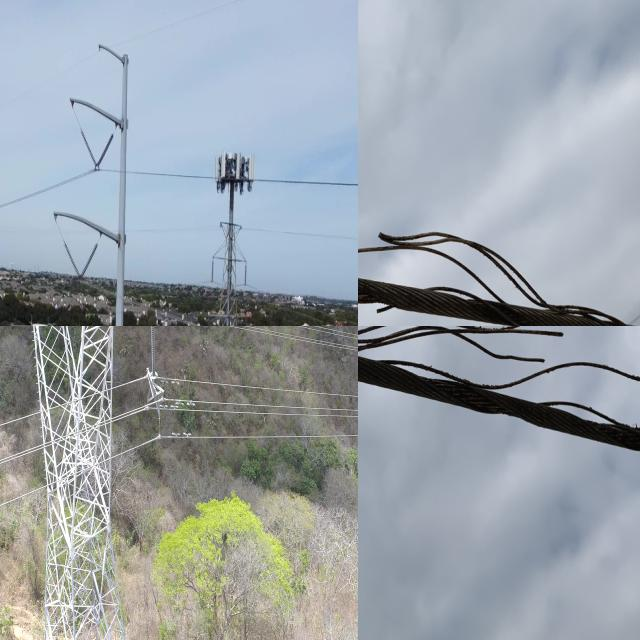杆塔: (18, 326, 136, 640), (204, 207, 253, 326)
正常电缆: (173, 373, 358, 401), (164, 425, 358, 449), (213, 326, 358, 351), (187, 404, 358, 422)
正常绝缘子: (144, 326, 162, 410), (76, 240, 100, 286), (78, 127, 100, 172), (62, 241, 83, 286), (93, 131, 115, 173), (238, 252, 251, 300), (208, 252, 218, 295)
电缆破损: (358, 326, 640, 463), (358, 199, 638, 326)
